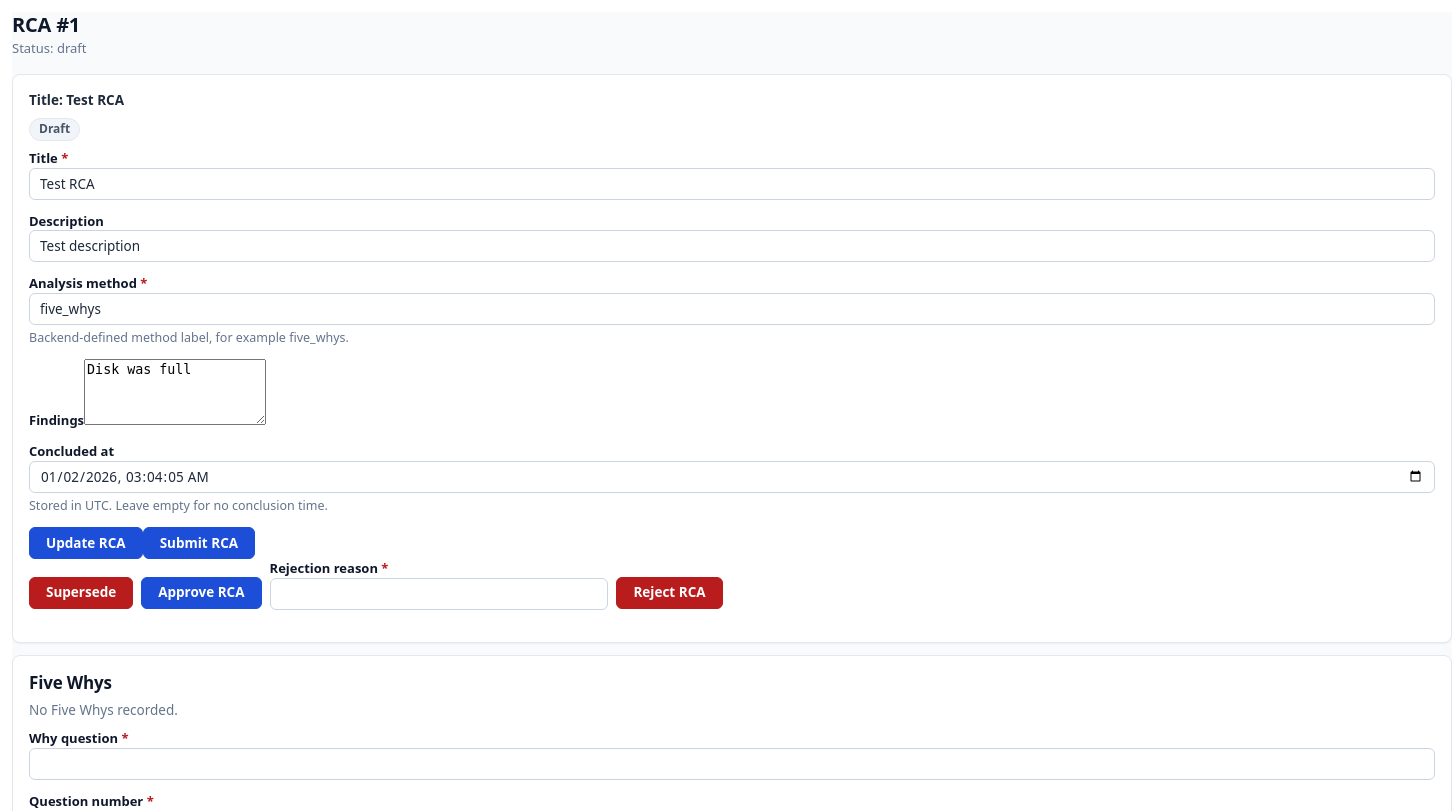
Test: RCA › blocks updates when the analysis method is empty
Clear the field labelled "Analysis method *" at coordinates (732, 309), box [29,293,1435,325]
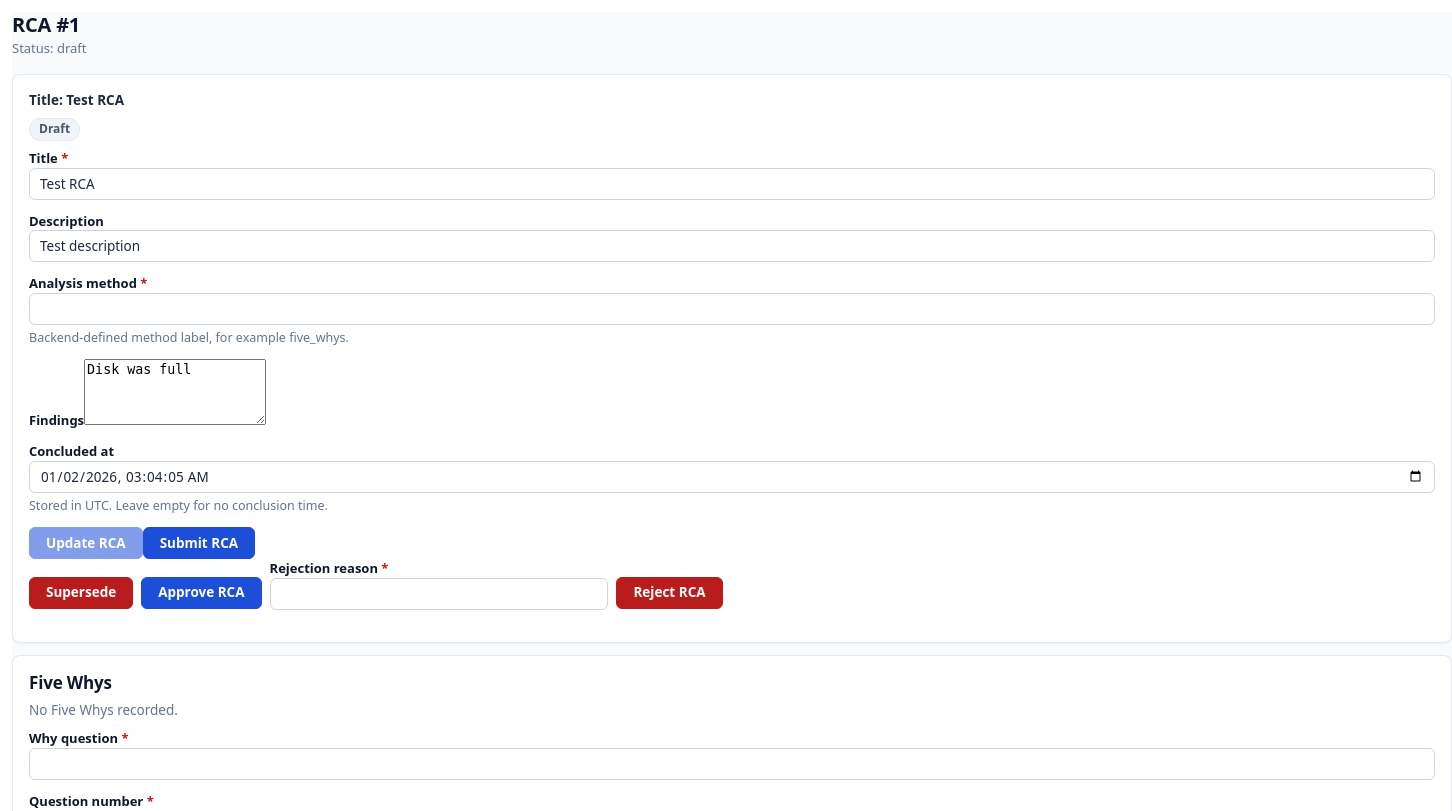
Result: the button "Update RCA" is disabled at [29,527,143,559]
